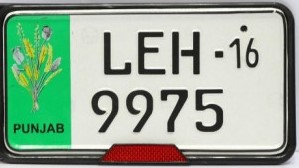1: (227, 35, 243, 70)
5: (190, 81, 230, 140)
6: (242, 35, 262, 68)
7: (155, 82, 193, 137)
9: (88, 85, 123, 137), (123, 85, 158, 137)
E: (135, 27, 169, 78)
H: (169, 28, 205, 77)
L: (99, 28, 132, 77)
